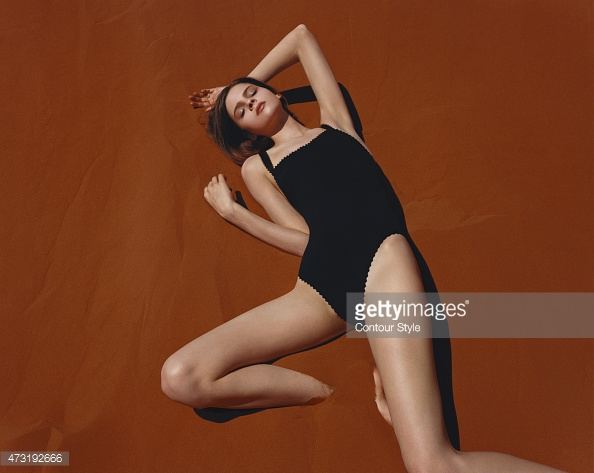deitado: (139, 27, 529, 473)
